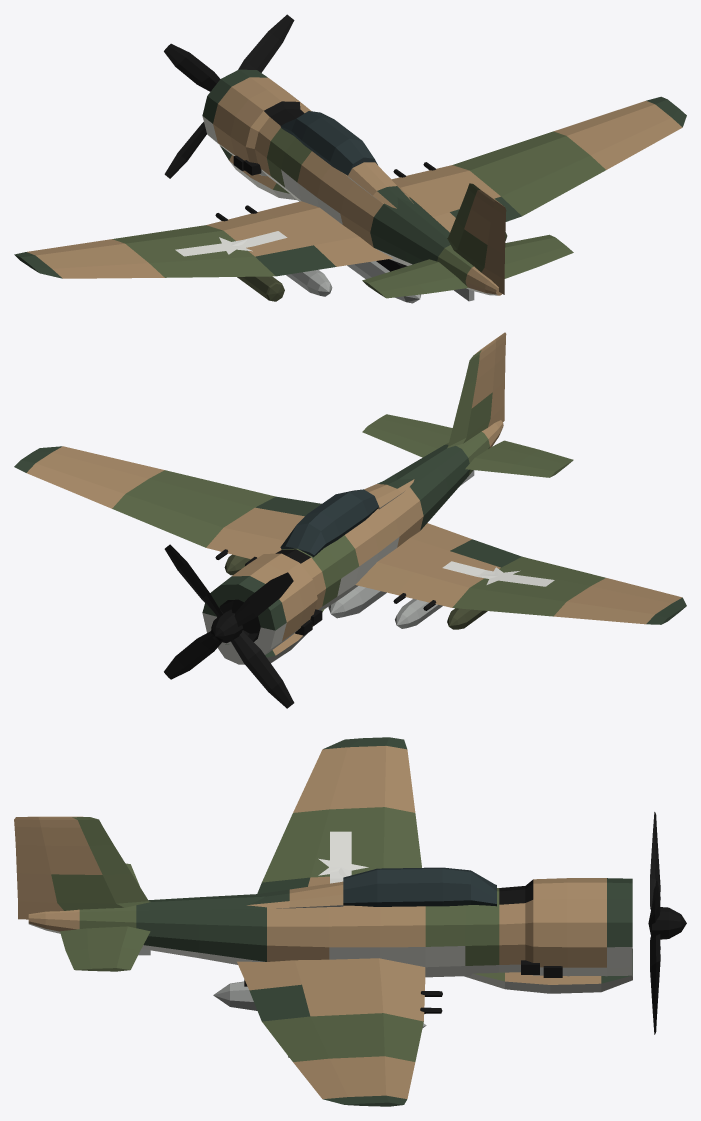
Rendered from a1_skyraider_v2.glb.
3 views of the same model, one above another, from view 1: azimuth 30°, elevation 25°; view 2: azimuth 150°, elevation 25°; view 3: azimuth 270°, elevation 25° (orthographic). The views are drawn at different scales.
Visible parts, largest first — view 1: A1_Airframe, A1_Prop, A1_Stores, A1_Markings; view 2: A1_Airframe, A1_Prop, A1_Stores, A1_Markings; view 3: A1_Airframe, A1_Prop, A1_Markings, A1_Stores.
Boxes of the visible parts, left/top/right/bottom form: A1_Airframe: left=14, top=69, right=686, bottom=301; A1_Prop: left=164, top=14, right=294, bottom=178; A1_Stores: left=237, top=232, right=507, bottom=303; A1_Markings: left=175, top=231, right=287, bottom=256; A1_Airframe: left=14, top=332, right=686, bottom=664; A1_Prop: left=164, top=544, right=294, bottom=708; A1_Stores: left=224, top=554, right=487, bottom=629; A1_Markings: left=442, top=561, right=554, bottom=586; A1_Airframe: left=14, top=737, right=632, bottom=1106; A1_Prop: left=648, top=812, right=686, bottom=1034; A1_Markings: left=318, top=831, right=368, bottom=883; A1_Stores: left=213, top=979, right=426, bottom=1057.
Size of what is drawn, in the model's own units: 15.25 by 3.8 by 11.87.
